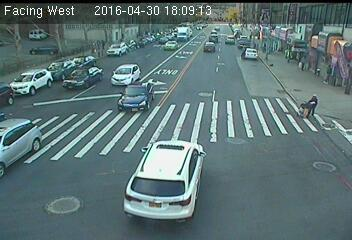neg: (120, 79, 153, 124), (126, 170, 156, 210), (17, 63, 42, 98), (51, 181, 75, 212), (246, 39, 266, 66), (273, 27, 293, 54), (176, 152, 194, 176), (198, 76, 215, 98), (321, 160, 335, 178), (202, 34, 216, 52), (141, 40, 153, 56), (225, 132, 233, 142), (69, 58, 77, 68)
pos: (307, 90, 325, 115), (322, 63, 336, 82), (300, 54, 312, 70), (296, 102, 307, 117)
